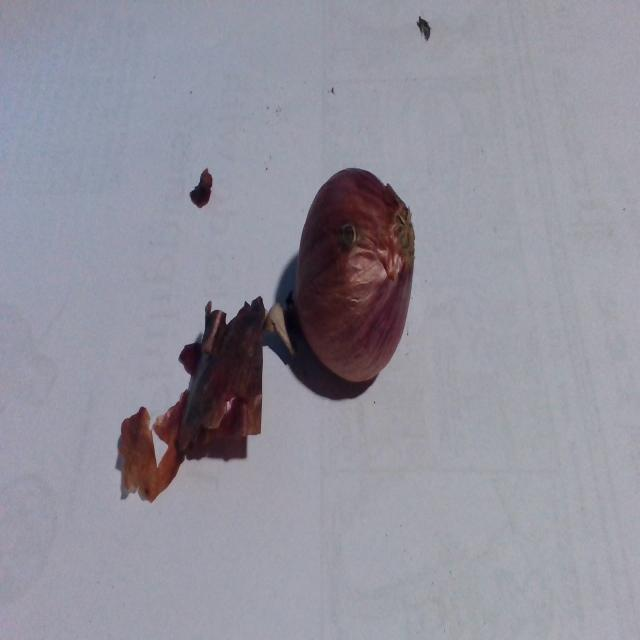onion: (258, 156, 427, 416)
